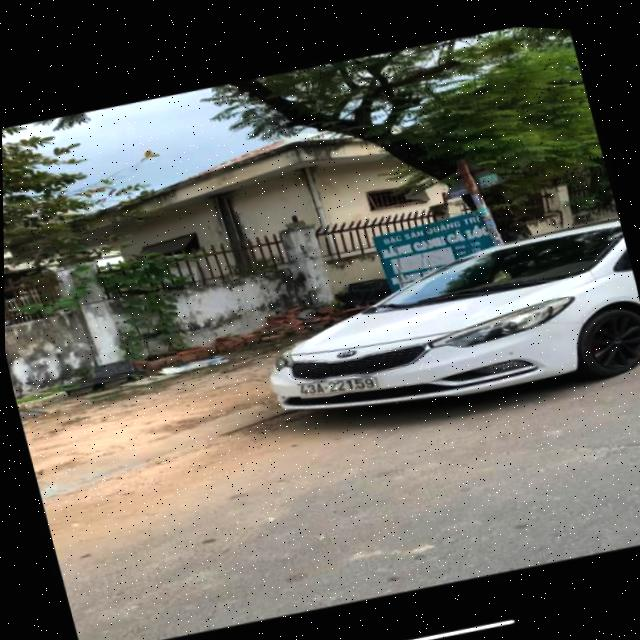car: (248, 209, 640, 454)
plate: (292, 363, 386, 412)
